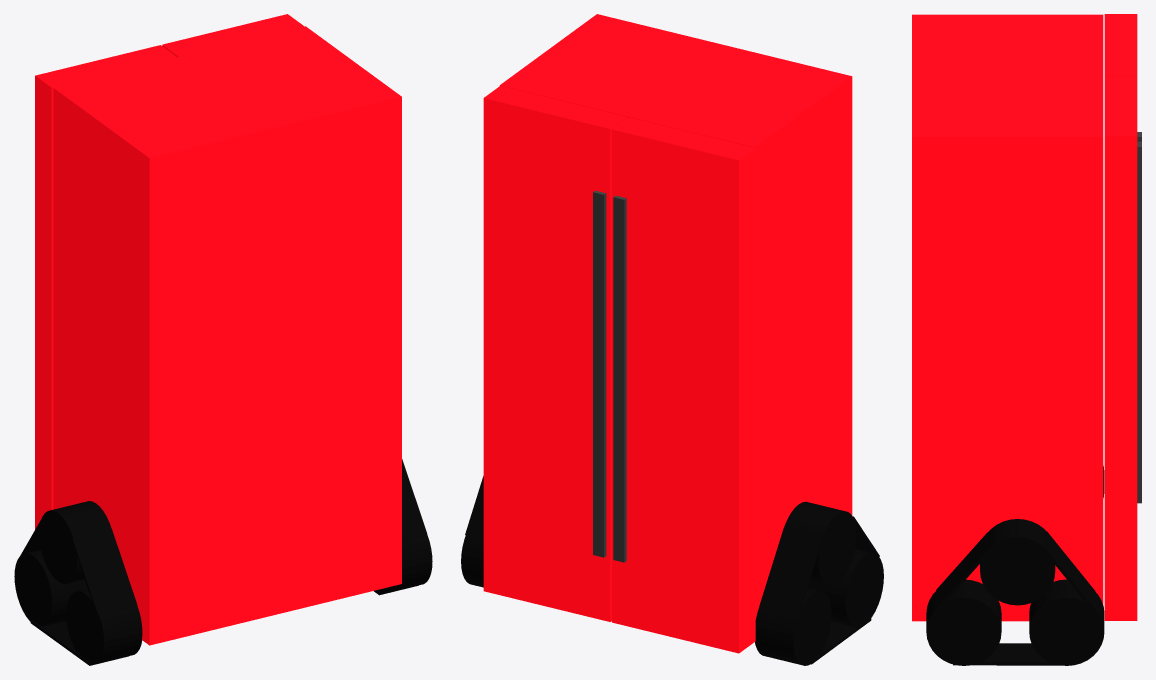
The model's file is big_fridge.glb.
The picture shows the model from 3 angles, left to right: view 1: azimuth 30°, elevation 25°; view 2: azimuth 150°, elevation 25°; view 3: azimuth 270°, elevation 25°; orthographic projection.
Parts seen in each view (by area): view 1: fridge, door.001, wheel.004, track.005, wheel.003, wheel.005, door, wheel.001, track, track.003; view 2: door.001, fridge, door, handle.001, handle, wheel.005, wheel.003, track.004, wheel.004, wheel, track.003, track.001; view 3: fridge, door, wheel.002, wheel.001, wheel, door.001, handle, track.001, track.002, track.
Boxes of the visible parts, x1,y1,x2,y2 form: fridge: (53, 26, 401, 645); door.001: (35, 45, 176, 529); wheel.004: (66, 588, 142, 664); track.005: (71, 528, 137, 615); wheel.003: (39, 501, 111, 584); wheel.005: (14, 549, 87, 626); door: (162, 14, 303, 57); wheel.001: (378, 534, 432, 594); track: (402, 459, 427, 540); track.003: (30, 620, 128, 665); door.001: (612, 117, 755, 653); fridge: (499, 14, 852, 619); door: (483, 86, 626, 621); handle.001: (613, 195, 626, 562); handle: (593, 190, 606, 557); wheel.005: (755, 588, 831, 665); wheel.003: (784, 501, 856, 585); track.004: (759, 528, 821, 615); wheel.004: (807, 548, 883, 627); wheel: (461, 535, 483, 587); track.003: (810, 617, 871, 664); track.001: (465, 476, 483, 539); fridge: (912, 14, 1103, 621); door: (1104, 75, 1137, 620); wheel.002: (980, 519, 1055, 605); wheel.001: (926, 579, 1001, 665); wheel: (1029, 579, 1104, 665); door.001: (1104, 14, 1137, 75); handle: (1137, 141, 1141, 503); track.001: (1044, 531, 1095, 610); track.002: (953, 643, 1060, 665); track: (936, 532, 987, 608).
Bounding box in the file's own units: 5.3 × 7.88 × 3.21.
